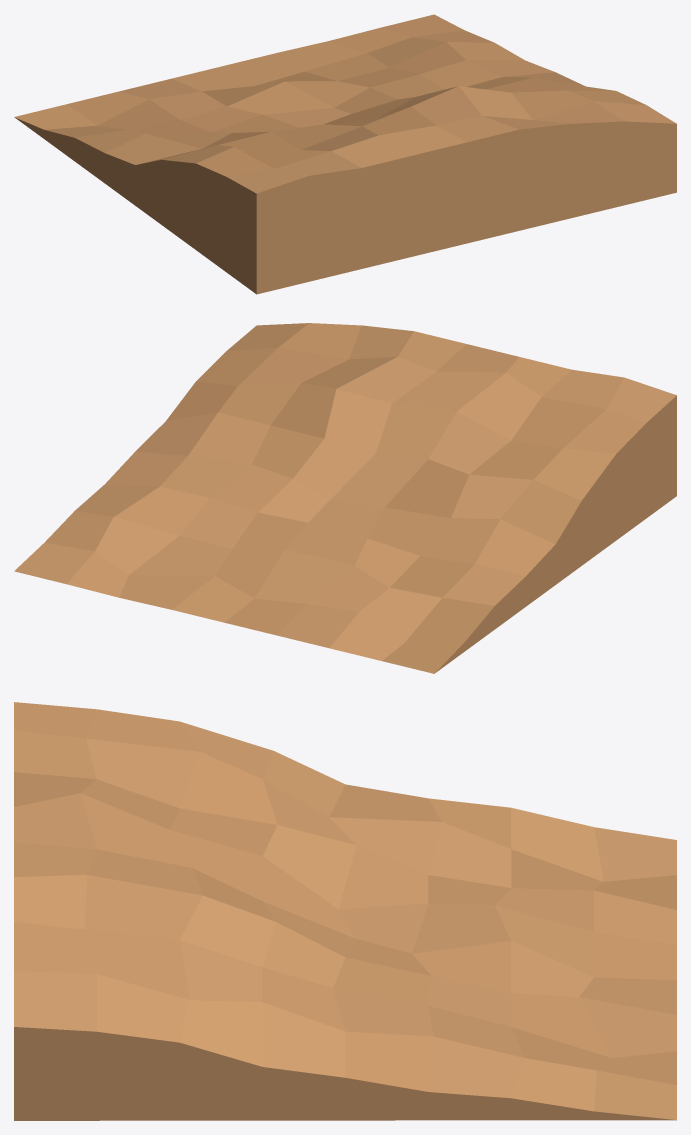
Rendered from Mesa.fbx.
The picture shows the model from 3 angles, top to bottom: view 1: azimuth 30°, elevation 25°; view 2: azimuth 150°, elevation 25°; view 3: azimuth 270°, elevation 25°; orthographic projection. The views are drawn at different scales.
Parts seen in each view (by area): view 1: Plane; view 2: Plane; view 3: Plane.
Part boxes in pixels (box(x1,y1,x2,y2)): Plane: box(14, 14, 676, 294); Plane: box(14, 323, 676, 673); Plane: box(14, 702, 676, 1120).
Bounding box in the file's own units: 1000 × 247 × 1000.
